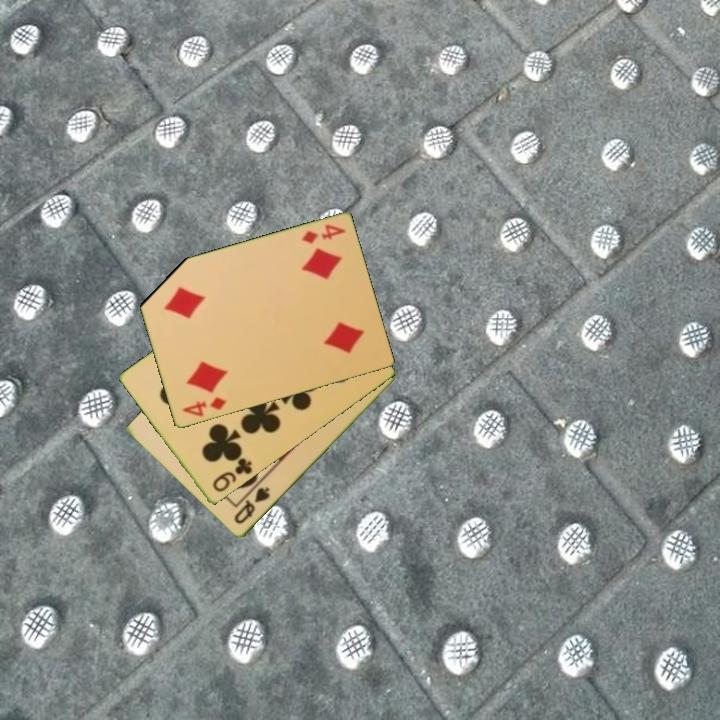4d: (179, 394, 229, 420), (298, 221, 348, 247)
9c: (209, 454, 255, 495)
Qs: (230, 484, 273, 527)
